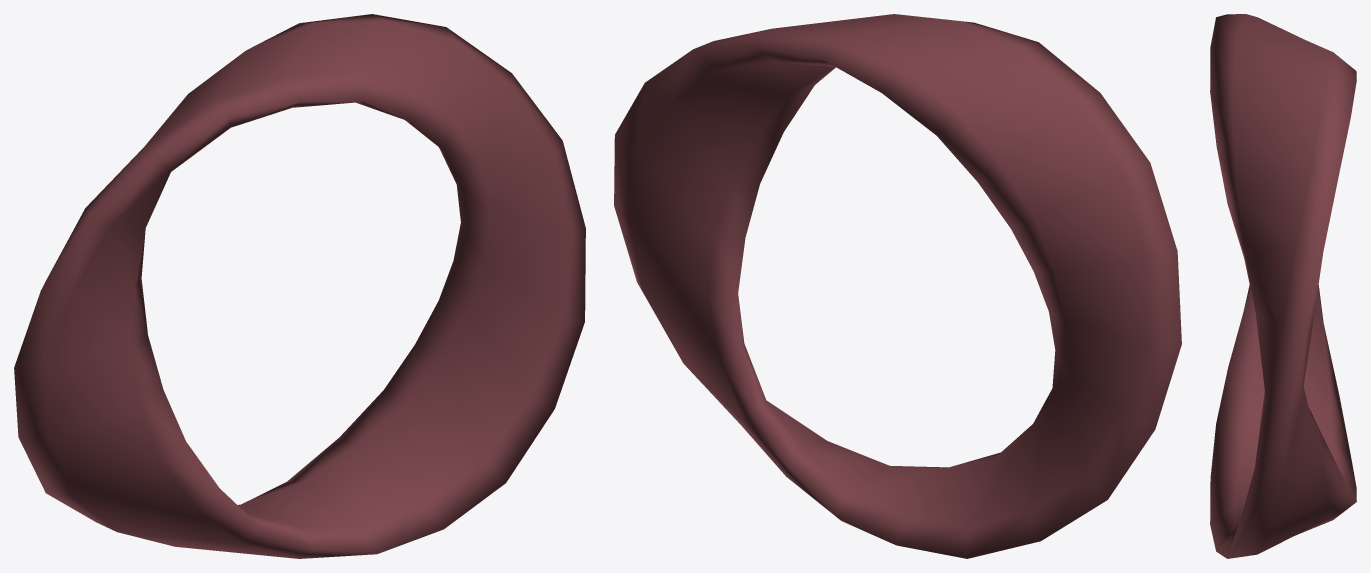
The picture shows the model from 3 angles, left to right: view 1: azimuth 30°, elevation 25°; view 2: azimuth 150°, elevation 25°; view 3: azimuth 270°, elevation 25°; orthographic projection. The views are drawn at different scales.
Visible parts, largest first — view 1: Moebius_03; view 2: Moebius_03; view 3: Moebius_03.
Boxes of the visible parts, x1,y1,x2,y2 form: Moebius_03: (14, 14, 585, 558); Moebius_03: (614, 14, 1181, 558); Moebius_03: (1210, 14, 1356, 558).
Size of the model in its own units: 285 by 237 by 67.63.
Materials: 1 (1 with a texture image).
